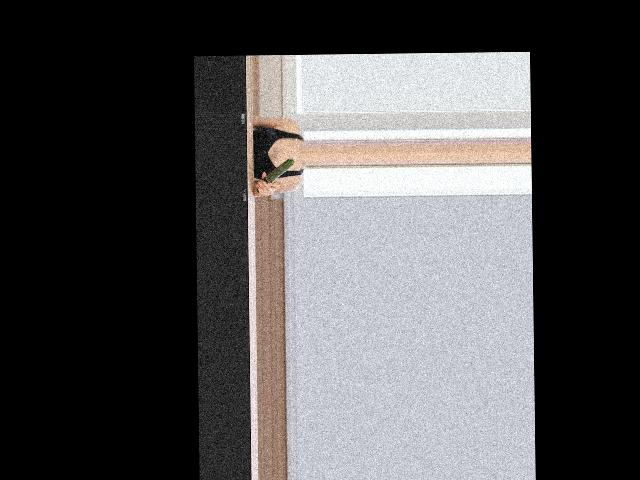cucumber: (255, 158, 296, 192)
